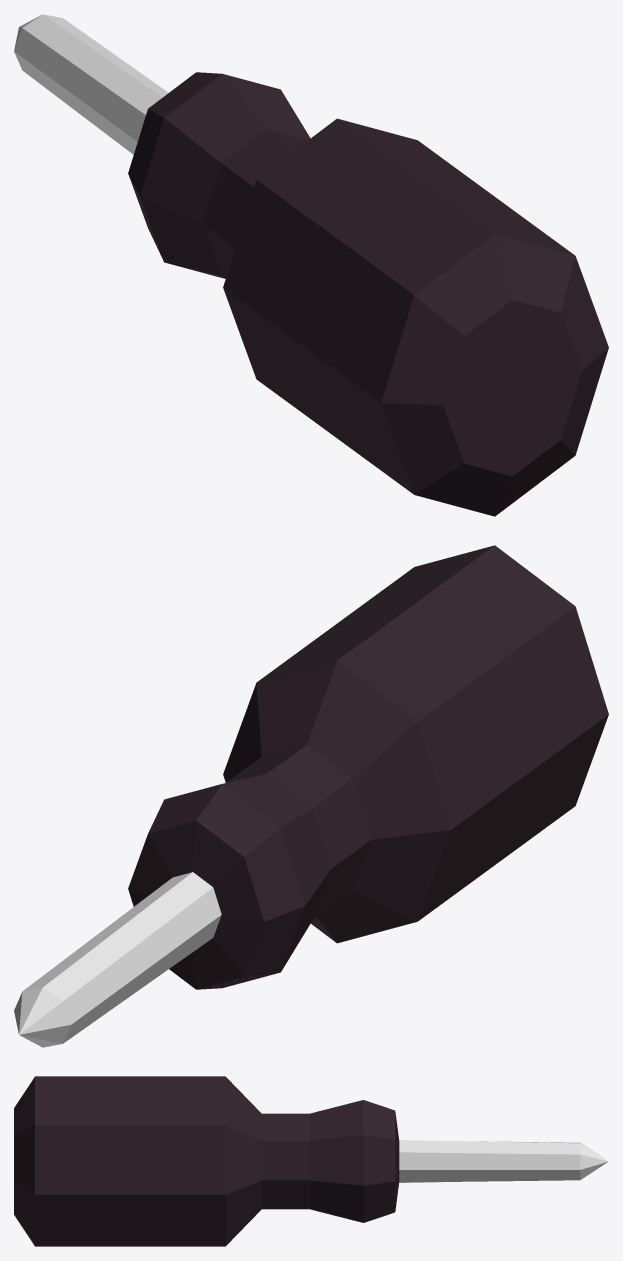
The model's file is Screwdriver_01.fbx.
3 renders of one model, top to bottom at view 1: azimuth 30°, elevation 25°; view 2: azimuth 150°, elevation 25°; view 3: azimuth 270°, elevation 25°, orthographic. The views are drawn at different scales.
Visible parts, largest first — view 1: Screwdriver_01; view 2: Screwdriver_01; view 3: Screwdriver_01.
Part boxes in pixels (box(x1,y1,x2,y2)): Screwdriver_01: box(14, 14, 608, 516); Screwdriver_01: box(14, 545, 608, 1047); Screwdriver_01: box(14, 1076, 608, 1246).
Bounding box in the file's own units: 7.92 × 9.38 × 29.69.
